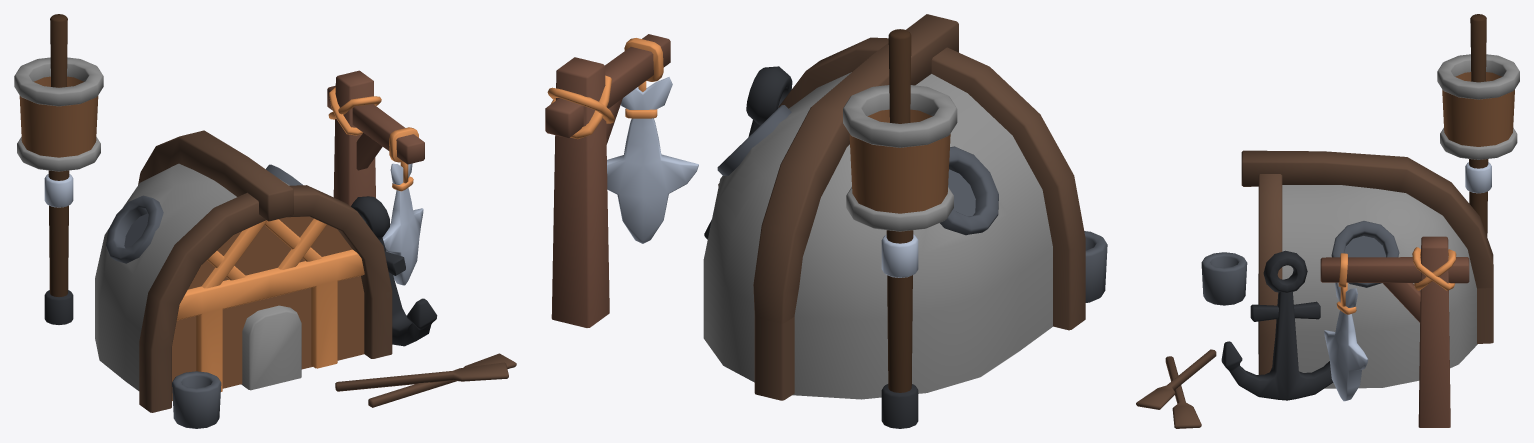
Rendered from Fisherman-Hut.fbx.
The picture shows the model from 3 angles, left to right: view 1: azimuth 30°, elevation 25°; view 2: azimuth 150°, elevation 25°; view 3: azimuth 270°, elevation 25°; orthographic projection. The views are drawn at different scales.
Parts seen in each view (by area): view 1: Sphere.016, Sphere.017, Cube.1176, Sphere.018, Cube.1524, Cylinder.248, Cube.1177, Cylinder.245, Cylinder.244, Cylinder.249, Cylinder.251, Plane.073 (+11 smaller); view 2: Sphere.016, Sphere.018, Sphere.017, Cube.1177, Plane.073, Cylinder.248, Cylinder.245, Cylinder.249, Cylinder.244, Cube.1178, Cylinder.250, Torus.002 (+6 smaller); view 3: Sphere.016, Sphere.018, Cube.1177, Cube.1175, Cylinder.248, Sphere.017, Cube.1178, Plane.073, Cylinder.249, Cylinder.251, Cylinder.244, Cylinder.245 (+9 smaller).
Part boxes in pixels (x1,y1,x2,y2): Sphere.016: (95,163,364,400); Sphere.017: (139,185,392,412); Cube.1176: (176,249,364,391); Sphere.018: (138,130,293,221); Cube.1524: (241,305,301,390); Cylinder.248: (19,76,98,157); Cube.1177: (333,70,375,206); Cylinder.245: (48,14,69,296); Cylinder.244: (106,164,302,263); Cylinder.249: (14,57,103,106); Cylinder.251: (172,371,221,428); Plane.073: (382,163,423,285); Sphere.016: (703,72,1052,399); Sphere.018: (753,14,958,400); Sphere.017: (778,37,1085,330); Cube.1177: (551,57,609,327); Plane.073: (607,77,698,243); Cylinder.248: (849,109,950,213); Cylinder.245: (886,29,913,392); Cylinder.249: (843,85,957,147); Cylinder.244: (717,105,998,235); Cube.1178: (545,34,670,138); Cylinder.250: (846,187,953,231); Torus.002: (746,66,792,125); Sphere.016: (1282,185,1477,388); Sphere.018: (1241,150,1493,343); Cube.1177: (1418,236,1450,427); Cube.1175: (1221,291,1333,400); Cylinder.248: (1442,72,1514,146); Sphere.017: (1258,174,1282,374); Cube.1178: (1320,257,1469,283); Plane.073: (1324,282,1368,401); Cylinder.249: (1437,54,1519,99); Cylinder.251: (1201,252,1247,305); Cylinder.244: (1331,221,1399,287); Cylinder.245: (1469,14,1488,236).
Size of the model in its own units: 162 by 137 by 169.
